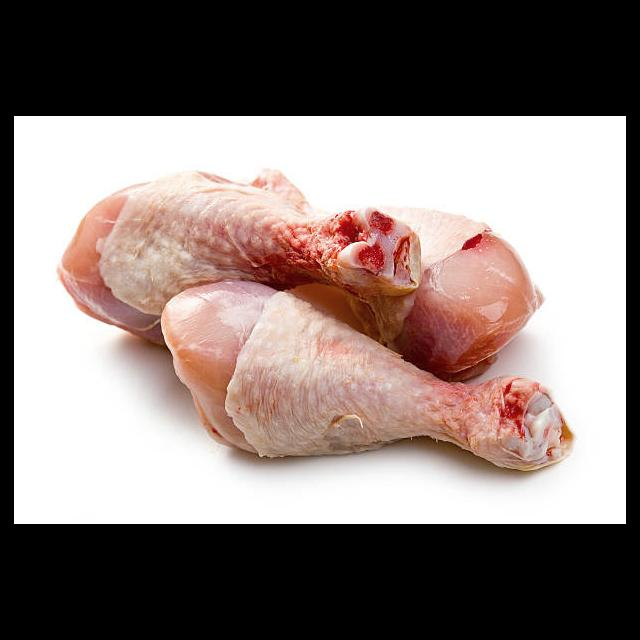chicken: (160, 280, 575, 473), (54, 168, 422, 349), (278, 205, 545, 382)
